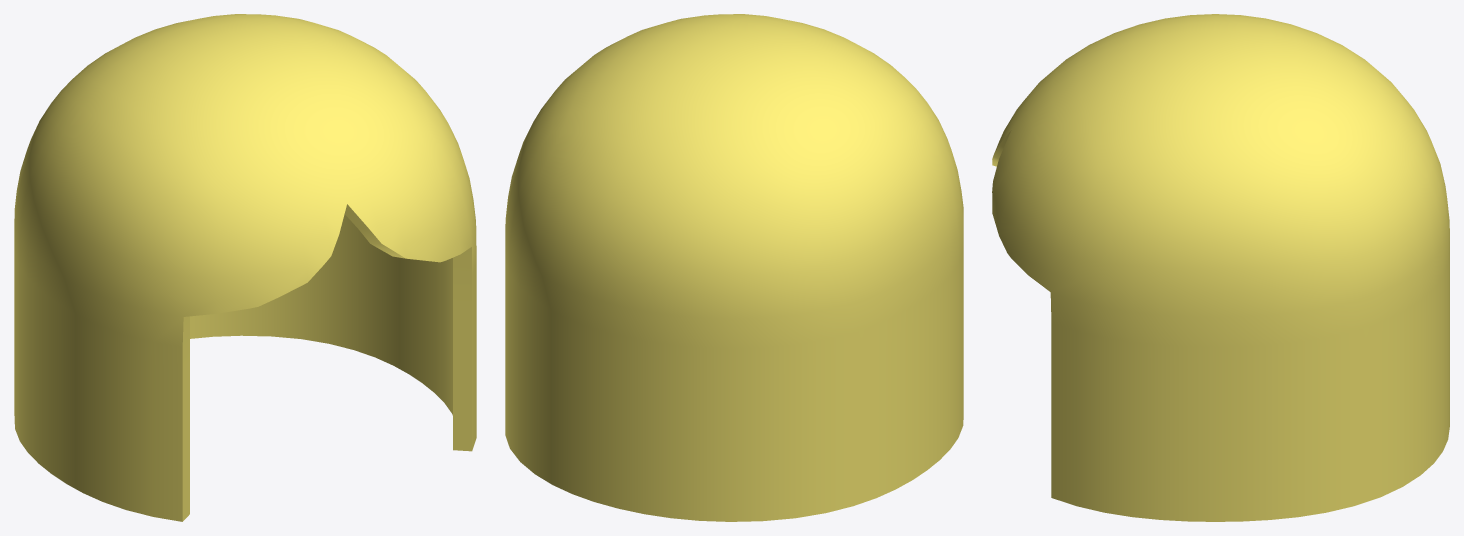
The model's file is Collection_005.fbx.
The picture shows the model from 3 angles, left to right: view 1: azimuth 30°, elevation 25°; view 2: azimuth 150°, elevation 25°; view 3: azimuth 270°, elevation 25°; orthographic projection.
Visible parts, largest first — view 1: Roundcube.027; view 2: Roundcube.027; view 3: Roundcube.027.
Boxes of the visible parts, x1,y1,x2,y2 form: Roundcube.027: (14, 14, 476, 521); Roundcube.027: (505, 14, 963, 521); Roundcube.027: (992, 14, 1449, 521).
Size of the model in its own units: 162 by 154 by 165.
Materials: 1 (1 with a texture image).
